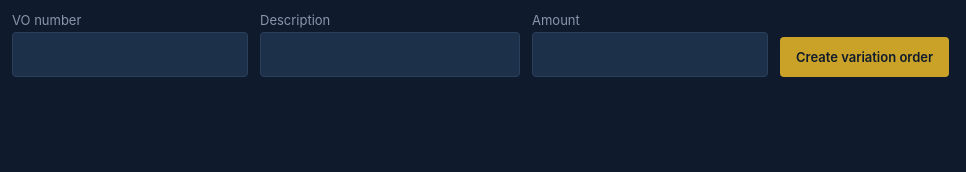
CreateVariationOrderForm › shows the action-returned error message on failure
Type "VO-001" into the field labelled "VO number" at (130, 54), box 12,32 -> 248,77
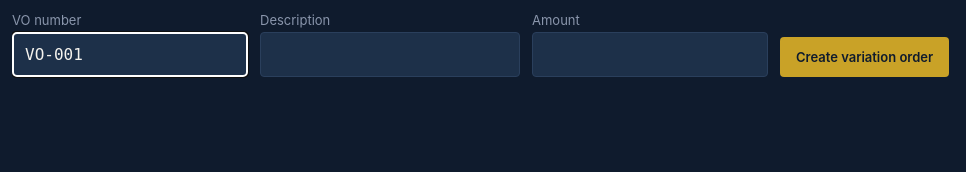
Type "Additional groundwork" into the field labelled "Description" at (390, 54), box 260,32 -> 520,77
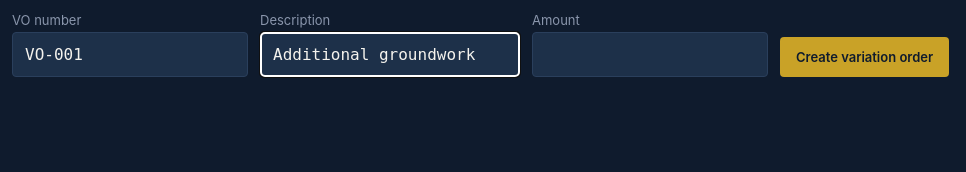
Type "25000" into the number field labelled "Amount" at (650, 54), box 532,32 -> 768,77
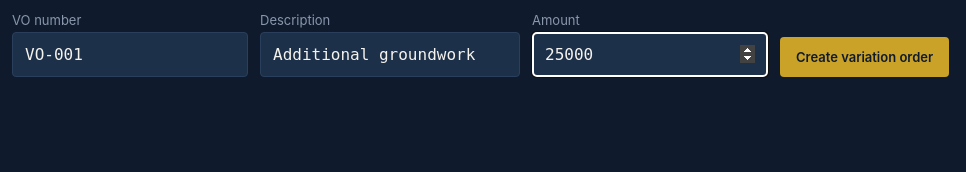
Click the button "Create variation order" at (865, 57), box 780,37 -> 949,77
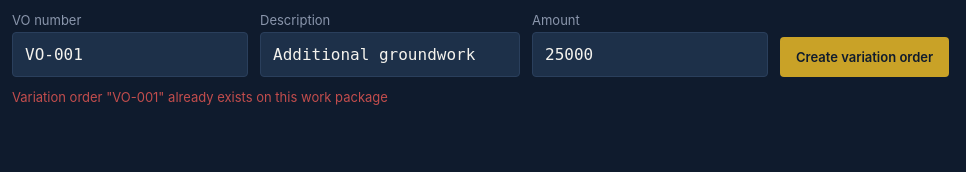
Check: the text "Variation order \"VO-001\" already exists on this work package" is shown, box 12,89 -> 388,105
